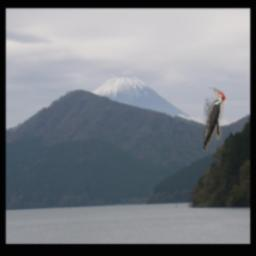Woodpecker: (203, 88, 226, 152)
